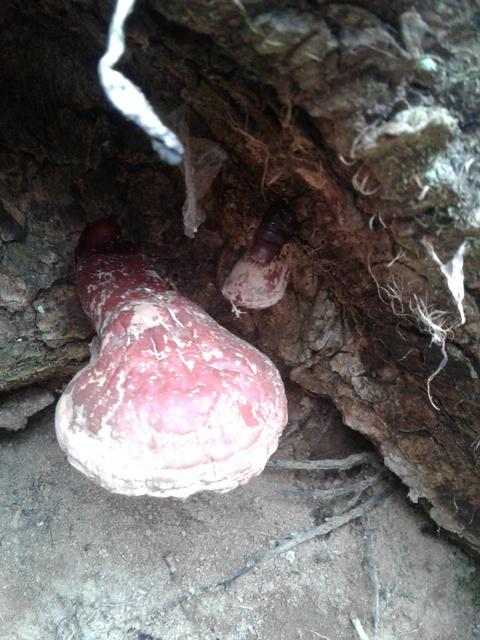Non-edible Mushroom: (53, 223, 289, 500)
